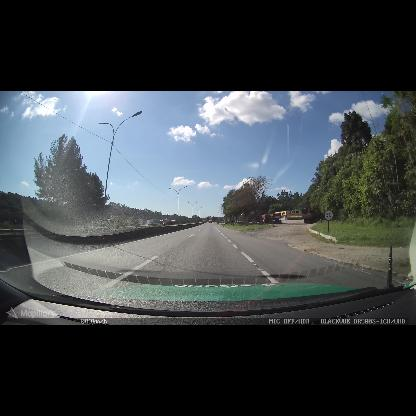O-MP: (245, 217, 249, 226)
R-19: (324, 209, 334, 221)
